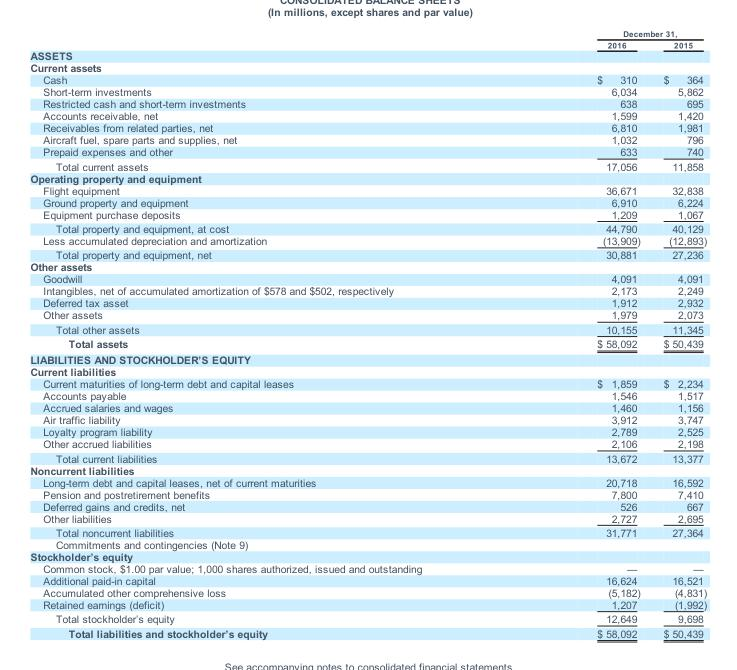table: (29, 28, 706, 638)
table column: (29, 28, 508, 638), (508, 28, 651, 638), (651, 28, 706, 638)
table column header: (29, 28, 706, 49)
table projected row header: (29, 351, 706, 365), (29, 49, 706, 61), (29, 61, 706, 73), (29, 172, 706, 184), (29, 260, 706, 272), (29, 365, 706, 377), (29, 463, 706, 475), (29, 538, 706, 550), (29, 550, 706, 562)
table row: (29, 336, 706, 351), (29, 158, 706, 172), (29, 308, 706, 322), (29, 322, 706, 336), (29, 351, 706, 365), (29, 511, 706, 525), (29, 611, 706, 625), (29, 145, 706, 158), (29, 208, 706, 221), (29, 221, 706, 234), (29, 234, 706, 247), (29, 247, 706, 260), (29, 437, 706, 450), (29, 450, 706, 463), (29, 525, 706, 538), (29, 598, 706, 611), (29, 625, 706, 638), (29, 49, 706, 61), (29, 61, 706, 73), (29, 73, 706, 85), (29, 85, 706, 97), (29, 97, 706, 109), (29, 109, 706, 121), (29, 121, 706, 133), (29, 133, 706, 145), (29, 172, 706, 184), (29, 184, 706, 196), (29, 196, 706, 208), (29, 260, 706, 272), (29, 272, 706, 284), (29, 284, 706, 296), (29, 296, 706, 308), (29, 365, 706, 377), (29, 377, 706, 389), (29, 389, 706, 401), (29, 401, 706, 413), (29, 413, 706, 425), (29, 425, 706, 437), (29, 463, 706, 475), (29, 475, 706, 487), (29, 487, 706, 499), (29, 499, 706, 511), (29, 538, 706, 550), (29, 550, 706, 562), (29, 562, 706, 574), (29, 574, 706, 586), (29, 586, 706, 598), (29, 28, 706, 39), (29, 39, 706, 49)
table spanning cell: (508, 28, 706, 39)
